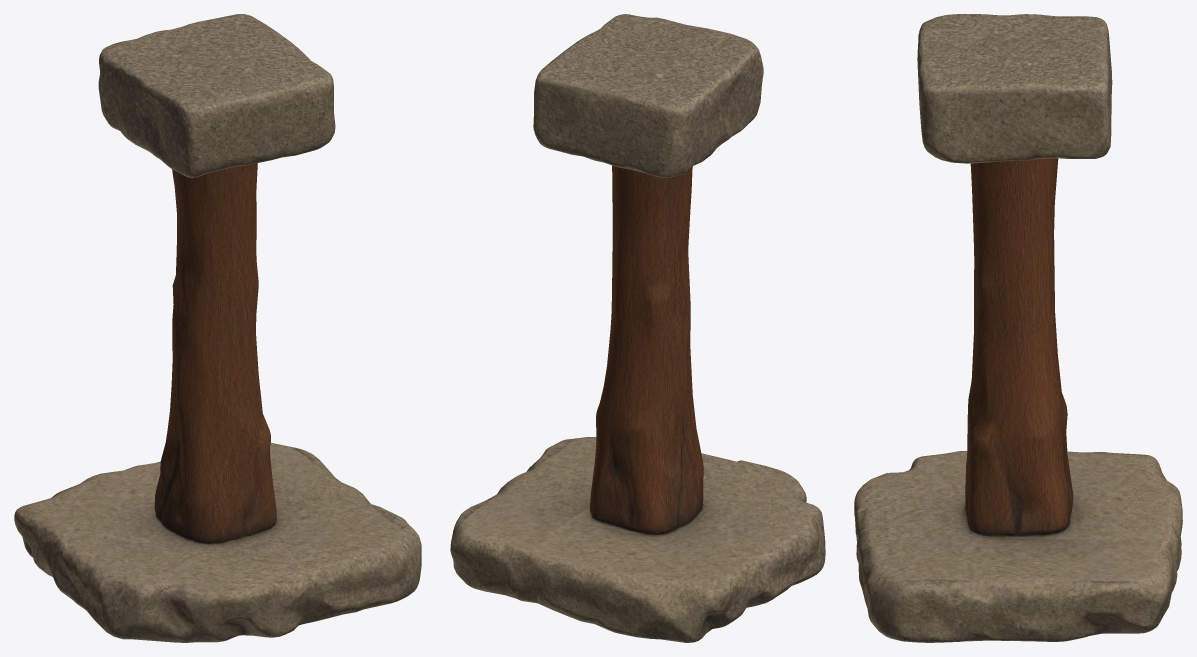
Rendered from hammer-2.glb.
3 views of the same model, side by side, from view 1: azimuth 30°, elevation 25°; view 2: azimuth 150°, elevation 25°; view 3: azimuth 270°, elevation 25° (orthographic). The views are drawn at different scales.
Visible parts, largest first — view 1: Mesh_0; view 2: Mesh_0; view 3: Mesh_0.
Part boxes in pixels (bbox=[...]): Mesh_0: bbox=[14, 14, 421, 642]; Mesh_0: bbox=[450, 14, 825, 642]; Mesh_0: bbox=[854, 14, 1182, 642].
Bounding box in the file's own units: 1.12 × 1.9 × 1.08.
1 material, 1 textured.
